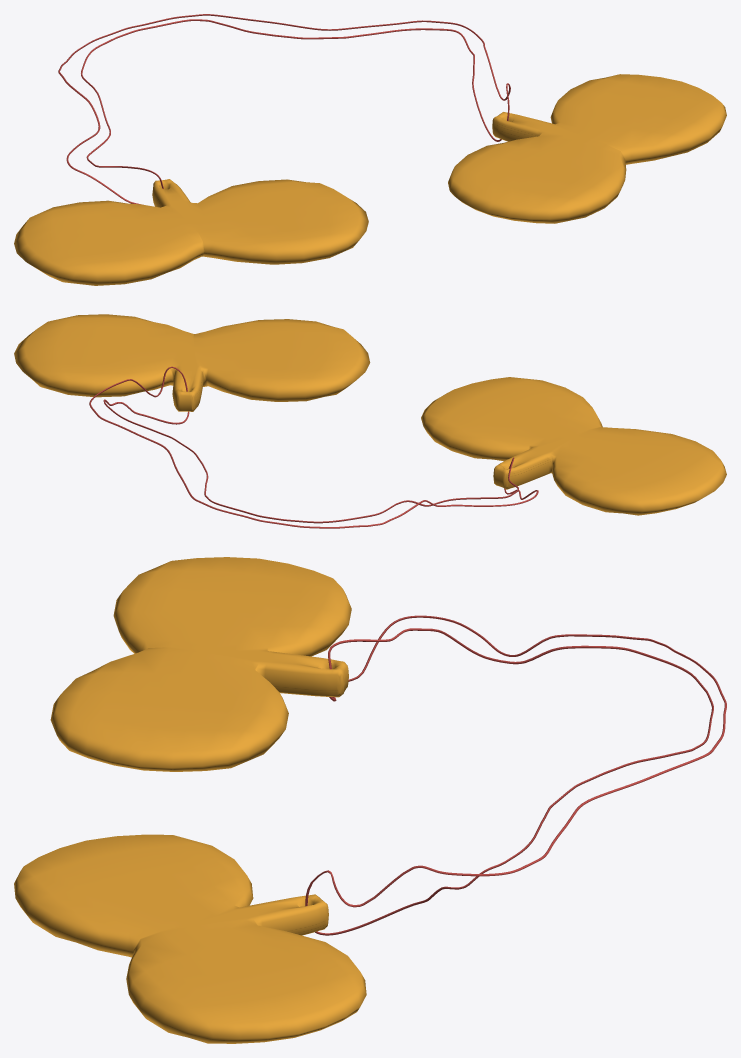
The model's file is Pawisak.glb.
3 renders of one model, top to bottom at view 1: azimuth 30°, elevation 25°; view 2: azimuth 150°, elevation 25°; view 3: azimuth 270°, elevation 25°, orthographic. The views are drawn at different scales.
Parts seen in each view (by area): view 1: pCube6.002; view 2: pCube6.002; view 3: pCube6.002.
Boxes of the visible parts, left/top/right/bottom form: pCube6.002: left=14, top=14, right=726, bottom=285; pCube6.002: left=14, top=314, right=726, bottom=528; pCube6.002: left=14, top=557, right=726, bottom=1043.
Bounding box in the file's own units: 2.62 × 0.2257 × 1.7.
1 material, 1 textured.
